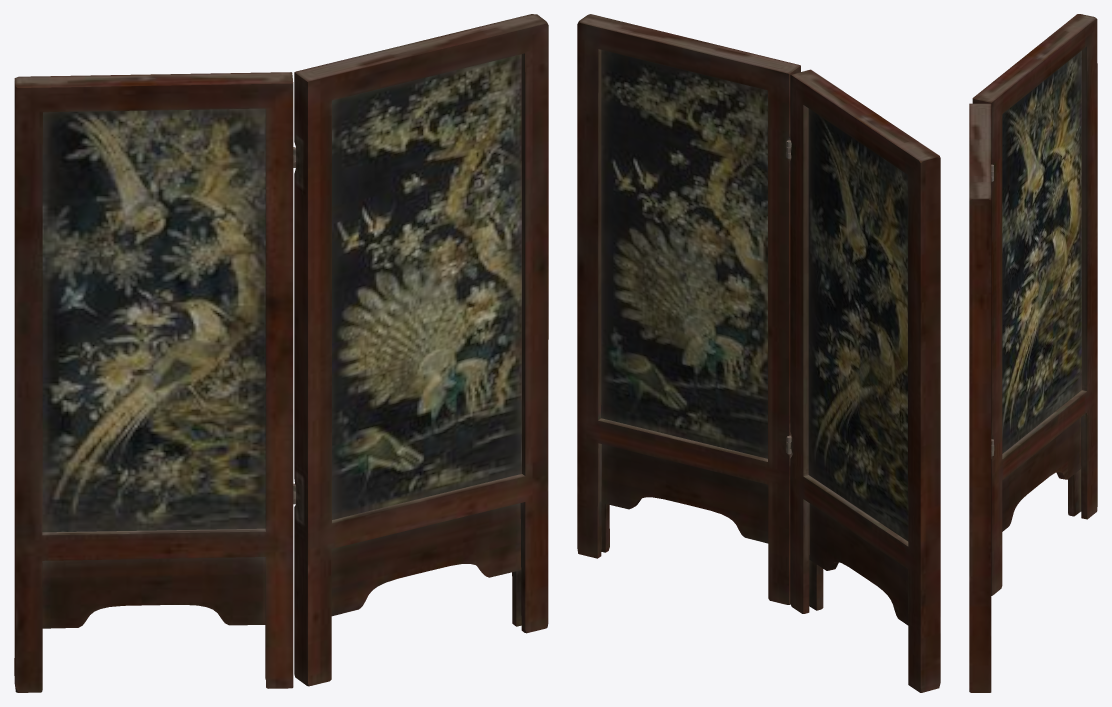
The picture shows the model from 3 angles, left to right: view 1: azimuth 30°, elevation 25°; view 2: azimuth 150°, elevation 25°; view 3: azimuth 270°, elevation 25°; orthographic projection. The views are drawn at different scales.
Parts seen in each view (by area): view 1: chinese_screen_panels_b, chinese_screen_panels_a; view 2: chinese_screen_panels_a, chinese_screen_panels_b; view 3: chinese_screen_panels_b, chinese_screen_panels_a.
Boxes of the visible parts, box(x1,y1,x2,y2) form: chinese_screen_panels_b: box(14, 72, 295, 692); chinese_screen_panels_a: box(293, 14, 548, 686); chinese_screen_panels_a: box(577, 14, 800, 604); chinese_screen_panels_b: box(786, 69, 940, 692); chinese_screen_panels_b: box(972, 14, 1097, 595); chinese_screen_panels_a: box(969, 103, 993, 692).
Bounding box in the file's own units: 1.29 × 1.6 × 0.3769.
1 material, 1 textured.
